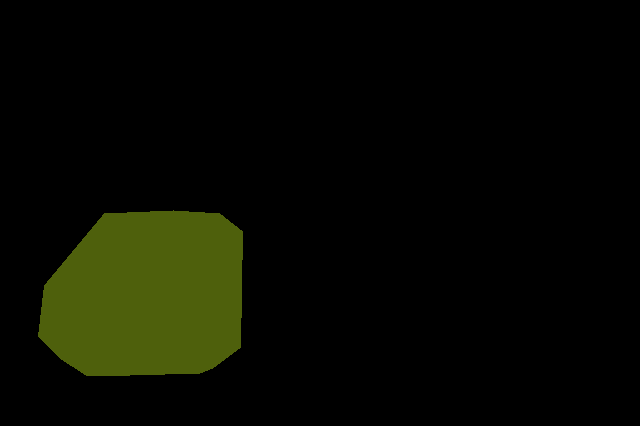Train: (38, 210, 242, 375)
